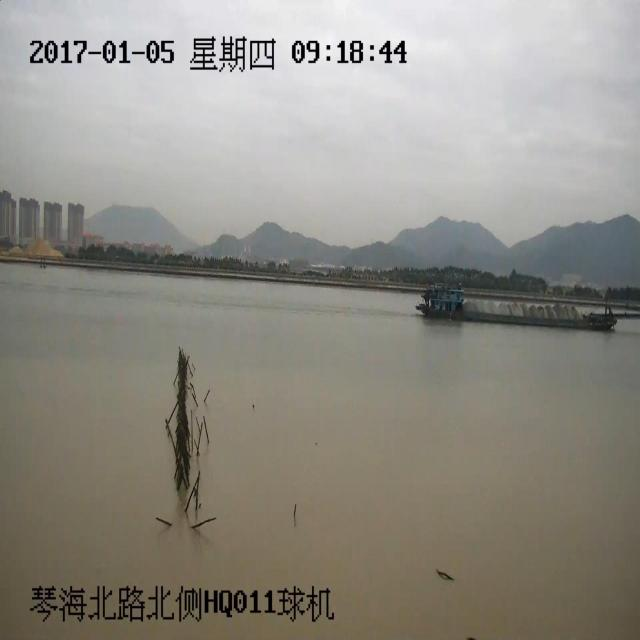cargoship: (416, 254, 623, 336)
